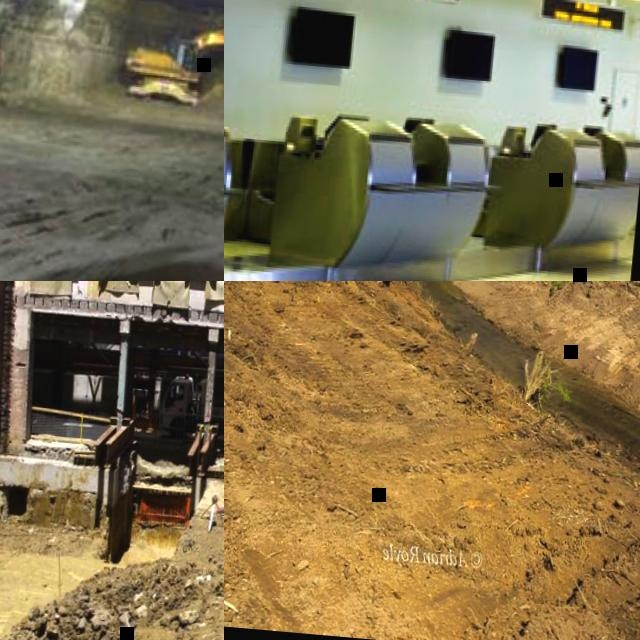machinery: (119, 8, 224, 111), (156, 373, 224, 446)
